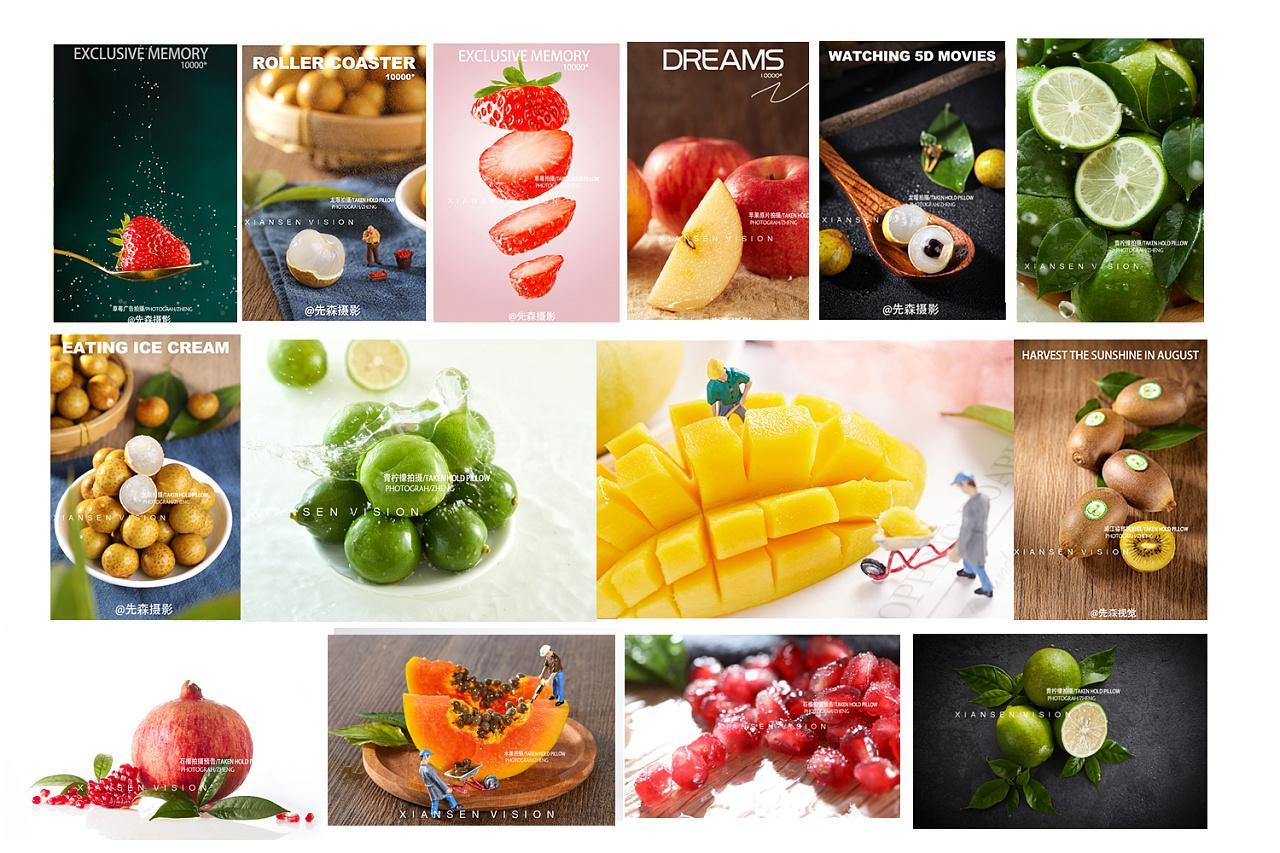apple: (717, 156, 811, 280), (645, 135, 750, 234)
